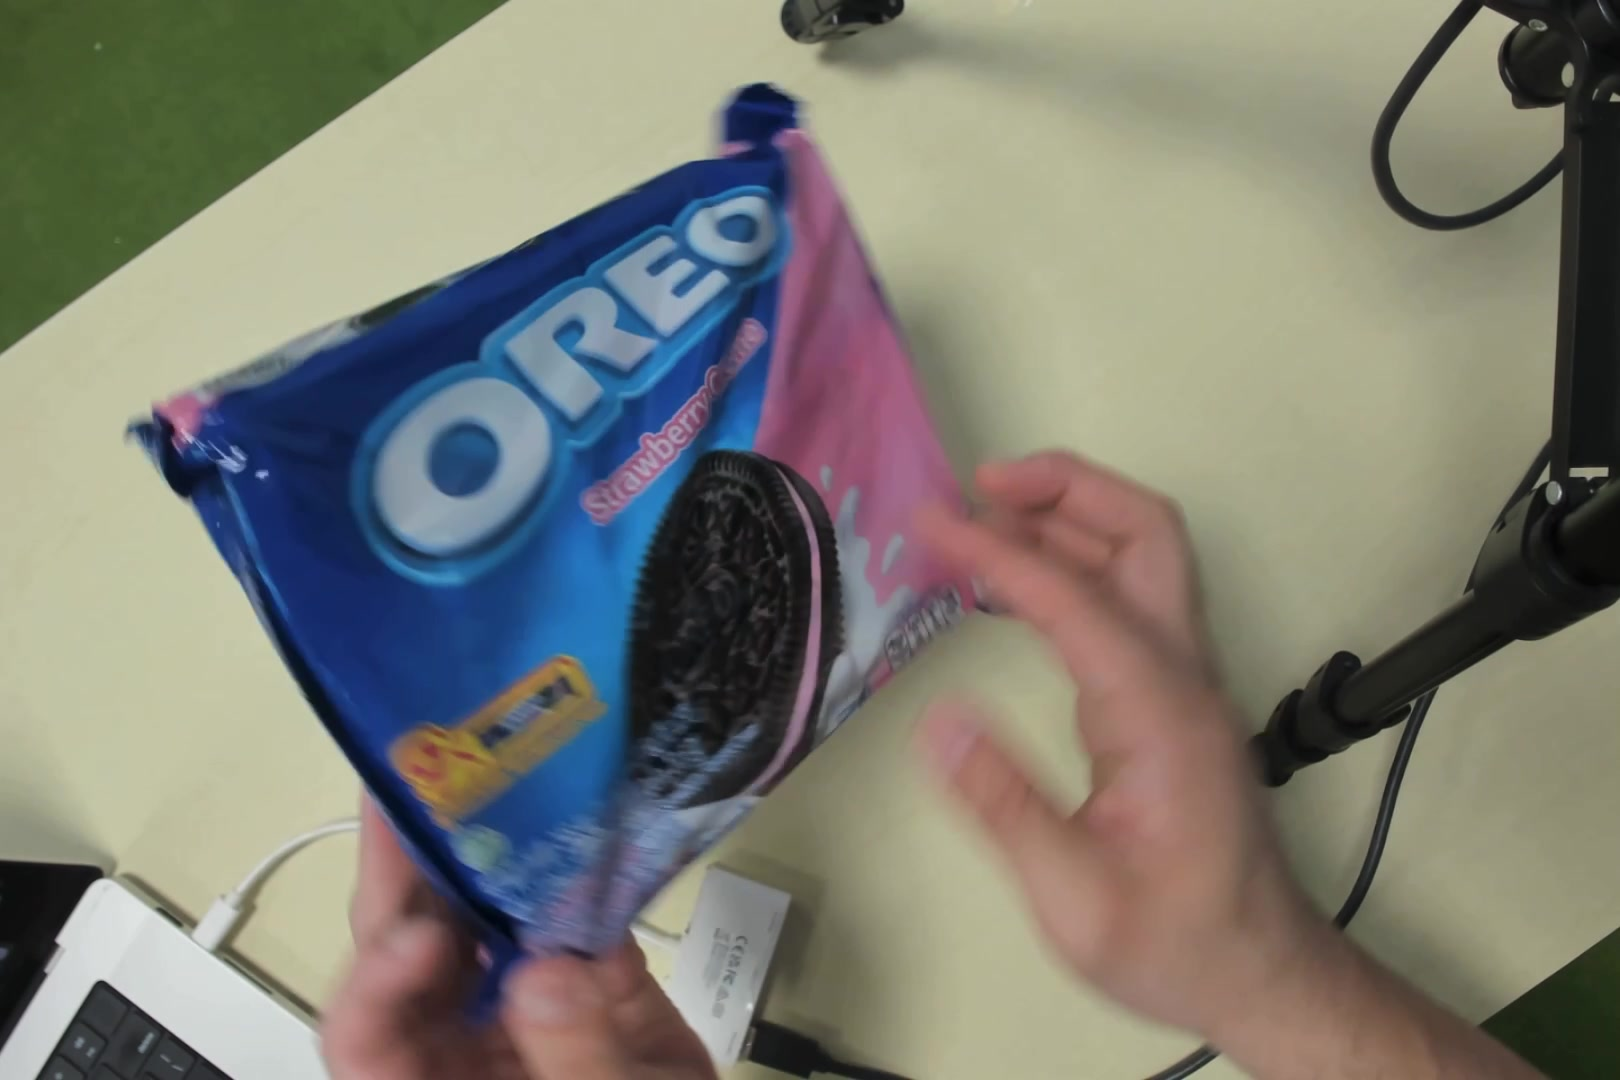SweetsChocolatesOthers_200-299g_Halal_NonHealthy: (292, 215, 943, 887)
